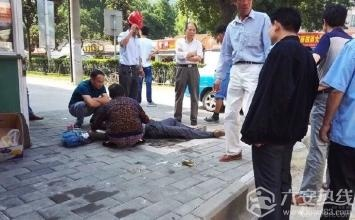falling: (136, 109, 225, 142)
